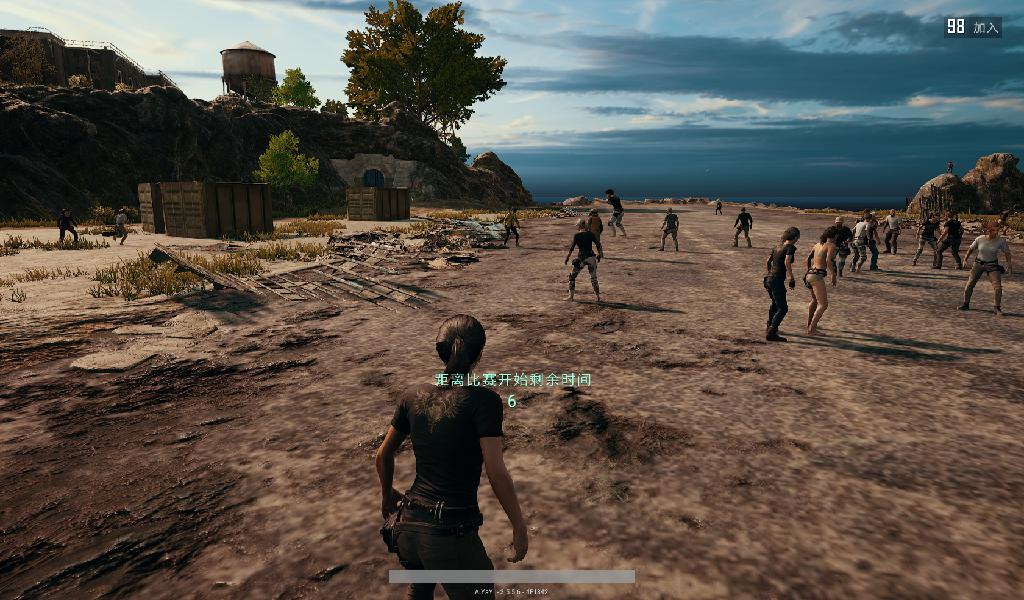Target Person: (376, 313, 531, 600), (964, 223, 1014, 315), (765, 224, 800, 342), (806, 225, 836, 340), (563, 217, 601, 303), (911, 210, 940, 267), (935, 212, 962, 270), (829, 217, 851, 288), (860, 210, 879, 275), (604, 189, 626, 238), (56, 205, 80, 249), (852, 215, 869, 277), (499, 205, 522, 250), (882, 206, 902, 257), (659, 206, 680, 254), (585, 208, 603, 263), (731, 206, 753, 247), (111, 207, 129, 246), (715, 198, 722, 215)
